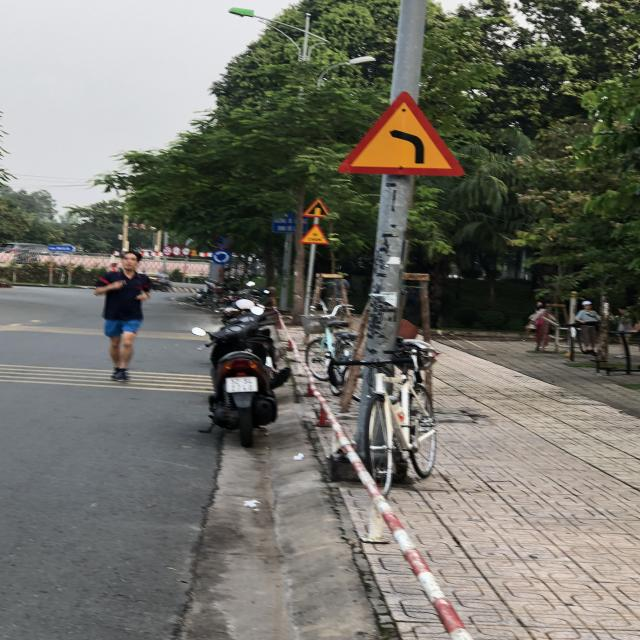Bien bao cho ngoat nguy hiem: (334, 92, 473, 182)
Bien bao di cham: (296, 221, 334, 248)
Bien bao noi giao nhau chay theo vong xuyen: (209, 248, 235, 265)
